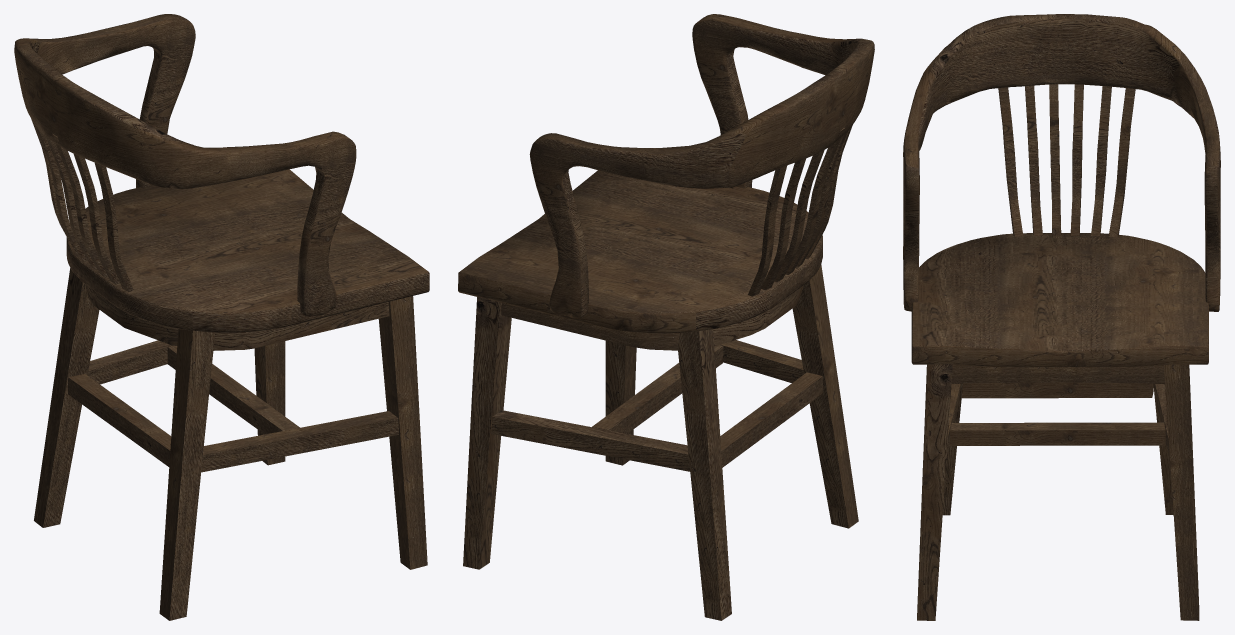
Rendered from Chair 1.FBX.
3 renders of one model, left to right at view 1: azimuth 30°, elevation 25°; view 2: azimuth 150°, elevation 25°; view 3: azimuth 270°, elevation 25°, orthographic. The views are drawn at different scales.
Visible parts, largest first — view 1: Chair 1; view 2: Chair 1; view 3: Chair 1.
Part boxes in pixels (x1,y1,x2,y2): Chair 1: [14, 14, 429, 620]; Chair 1: [458, 14, 874, 620]; Chair 1: [903, 14, 1220, 620].
Size of the model in its own units: 512 by 824 by 503.
Materials: 1 (1 with a texture image).
